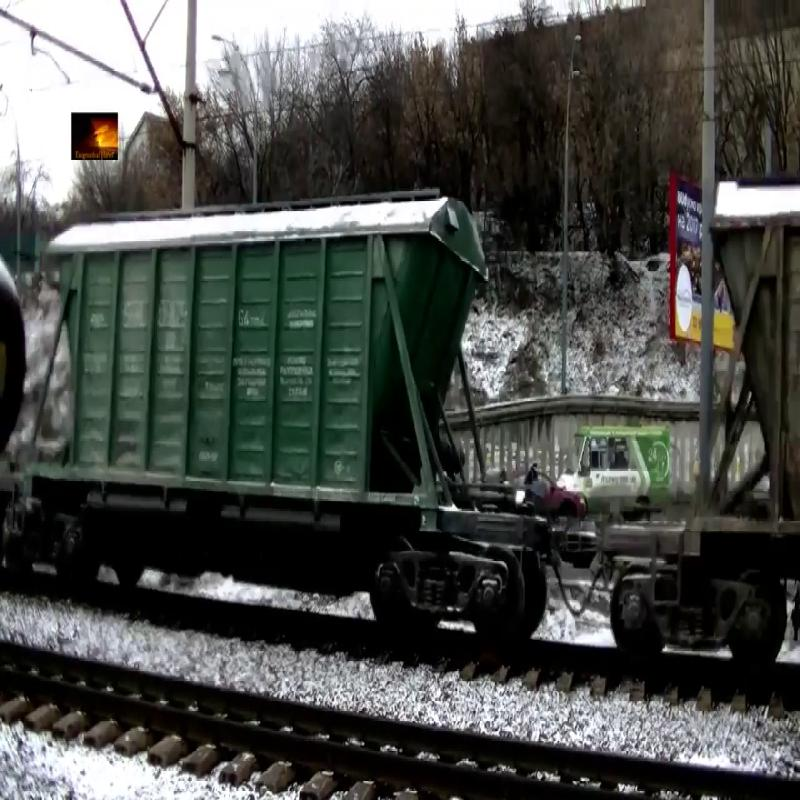train: (33, 188, 493, 538), (681, 170, 800, 578), (1, 235, 29, 511)
